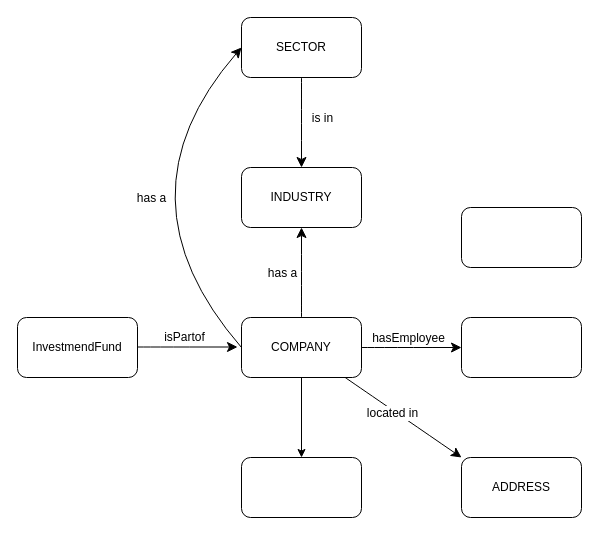
The diagram is 599 pixels wide and 535 high, and some of its shapes have lost their labels. Here are the shapes that lost their labels. From the top down, the centre of each, then its label:
pixel 521 237: JOB?
pixel 521 347: Person
pixel 301 487: FinancialData
